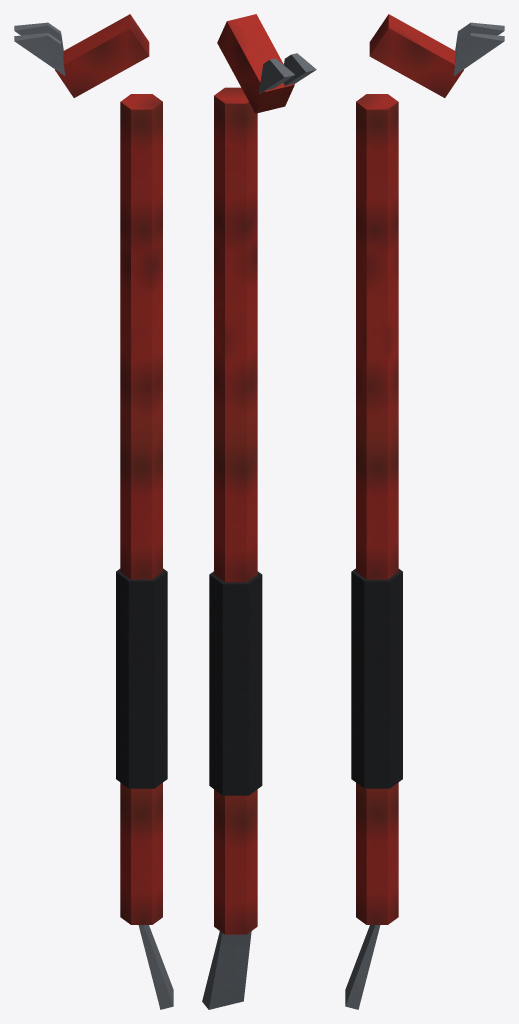
Rendered from weapon_crowbar.glb.
3 renders of one model, left to right at view 1: azimuth 90°, elevation 25°; view 2: azimuth 210°, elevation 25°; view 3: azimuth 270°, elevation 25°, orthographic.
Visible parts, largest first — view 1: Weapon_Crowbar; view 2: Weapon_Crowbar; view 3: Weapon_Crowbar.
Part boxes in pixels (x1,y1,x2,y2): Weapon_Crowbar: (14,14,173,1009); Weapon_Crowbar: (202,14,316,1009); Weapon_Crowbar: (345,14,504,1009).
Bounding box in the file's own units: 0.0294 × 0.7094 × 0.1045.
3 materials, 3 textured.
